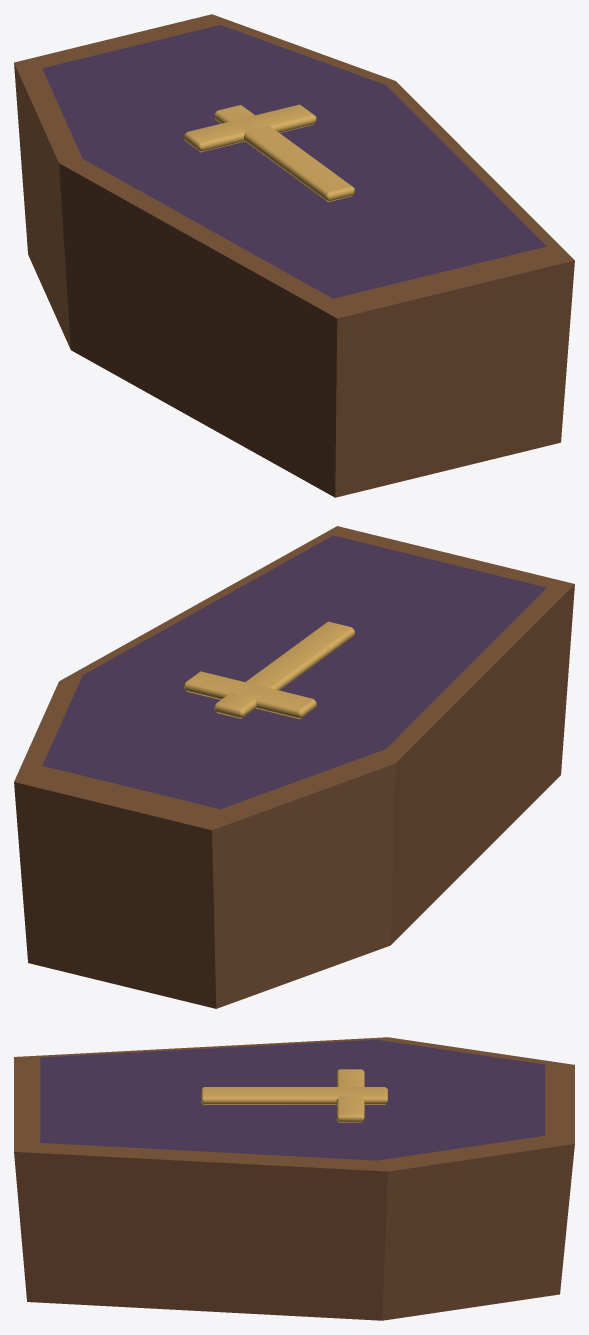
File: coffin.glb
3 views of the same model, one above another, from view 1: azimuth 30°, elevation 25°; view 2: azimuth 150°, elevation 25°; view 3: azimuth 270°, elevation 25° (orthographic). The views are drawn at different scales.
Visible parts, largest first — view 1: LH_coffin; view 2: LH_coffin; view 3: LH_coffin.
Part boxes in pixels (box(x1,y1,x2,y2)): LH_coffin: box(14, 14, 574, 497); LH_coffin: box(14, 526, 574, 1008); LH_coffin: box(14, 1037, 574, 1320).
Bounding box in the file's own units: 0.34 × 0.195 × 0.6.
